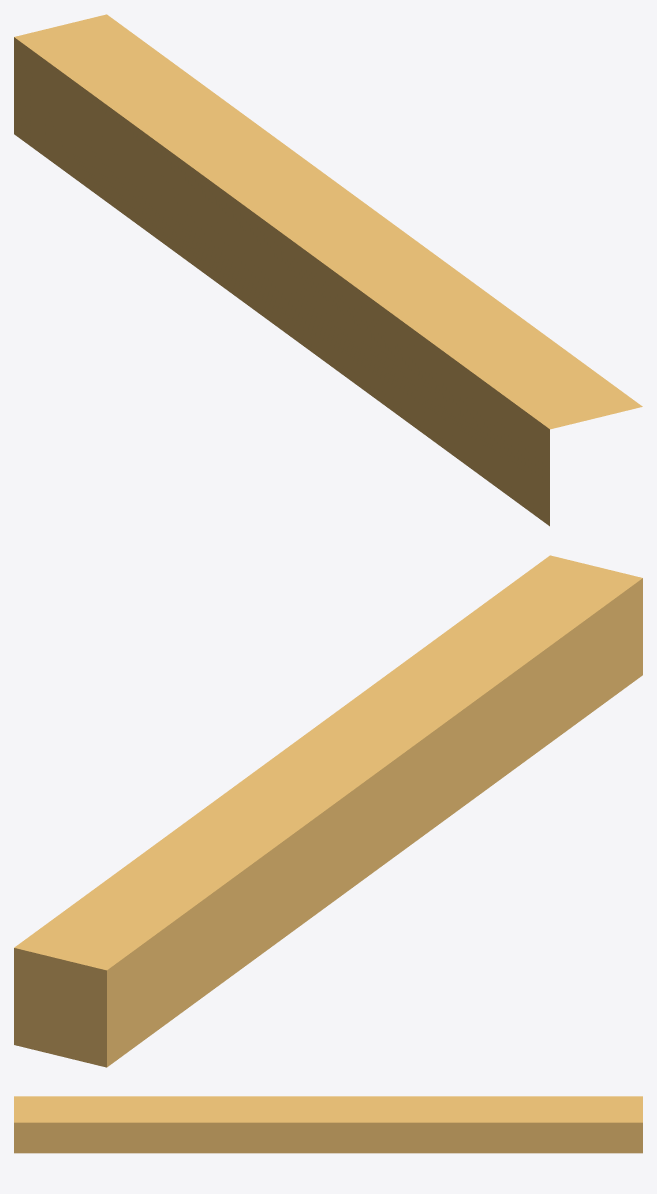
The picture shows the model from 3 angles, top to bottom: view 1: azimuth 30°, elevation 25°; view 2: azimuth 150°, elevation 25°; view 3: azimuth 270°, elevation 25°; orthographic projection. The views are drawn at different scales.
Size of the model in its own units: 0.1 by 0.1 by 1.
